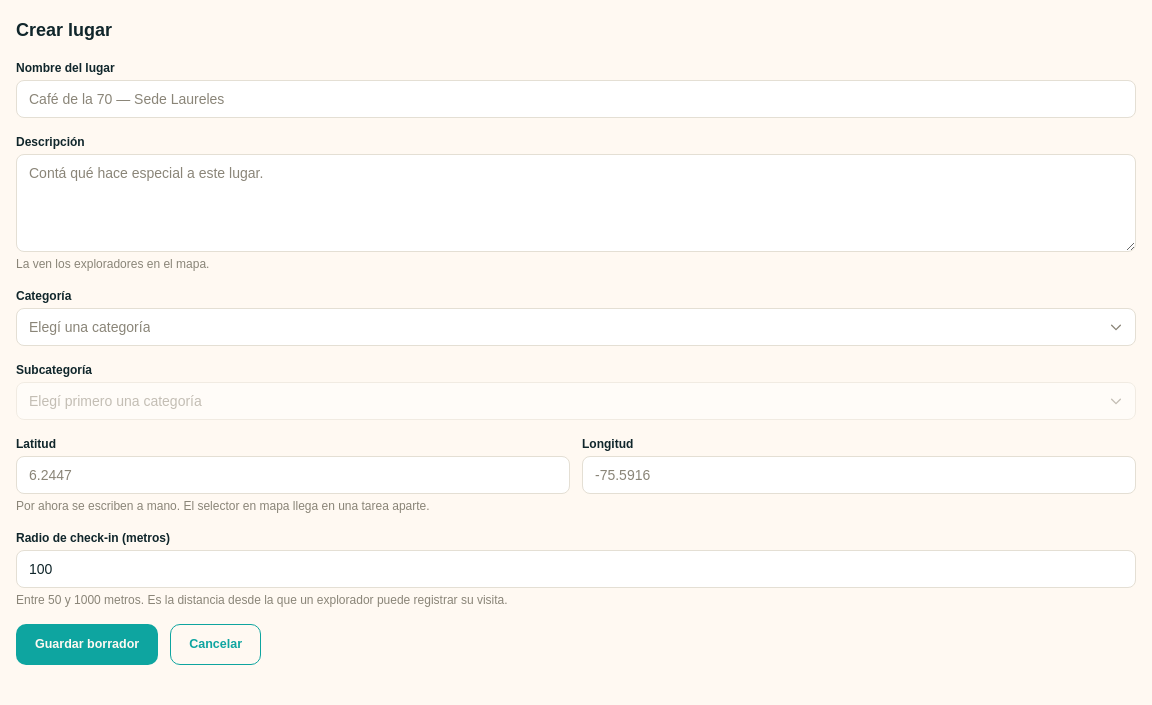
it: PlaceForm › exige la descripción, que el backend valida como obligatoria
In the field labelled "Nombre del lugar": (576, 99) left=16, top=80, right=1136, bottom=118, type "Sin descripción"
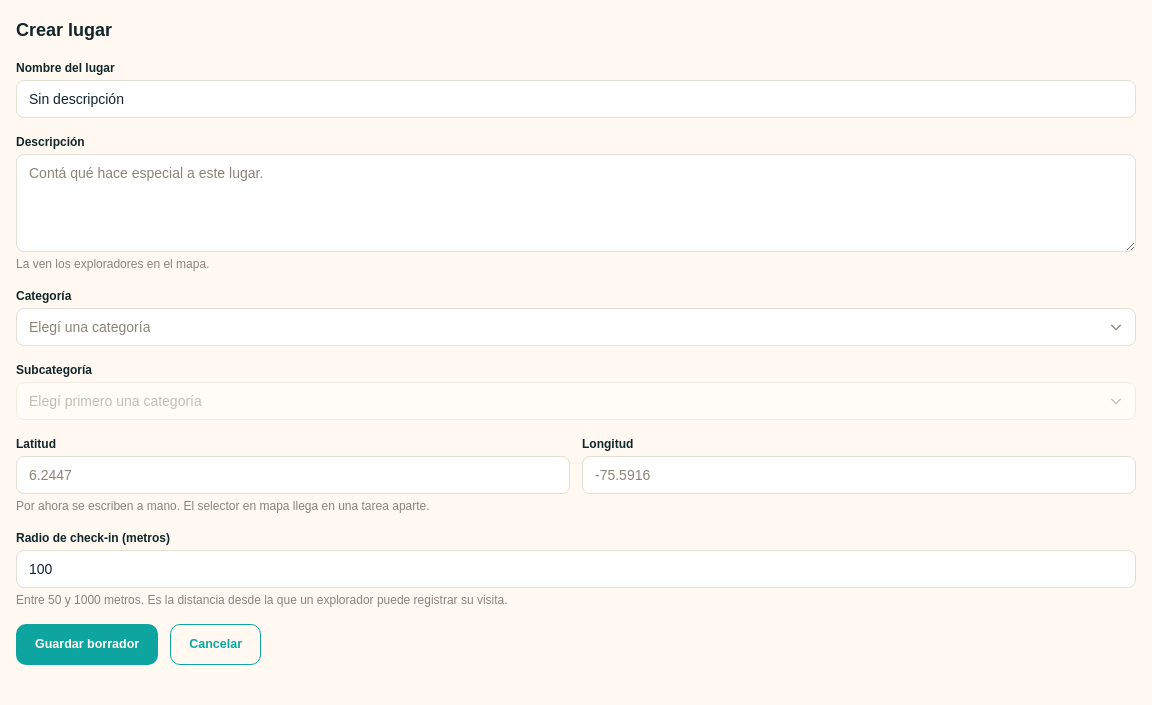
Click the button "Guardar borrador": (87, 644) left=16, top=624, right=158, bottom=665
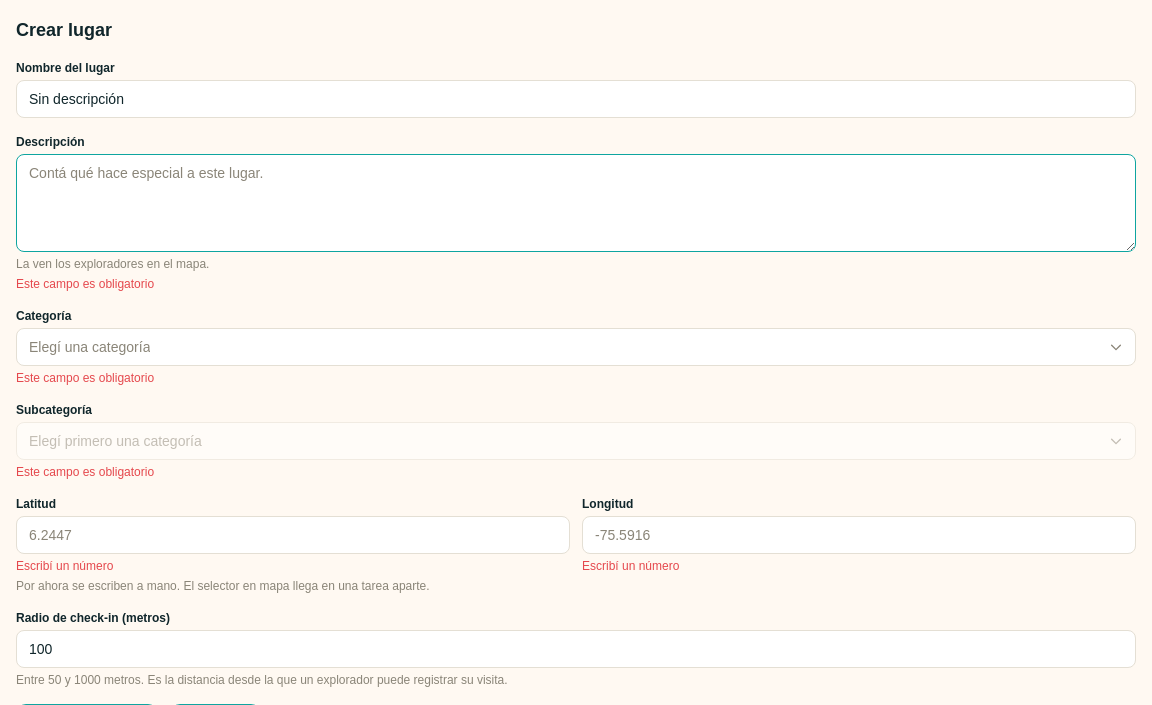
Expected: the text "Este campo es obligatorio" below "La ven los exploradores en el mapa." is shown, left=16, top=277, right=154, bottom=291
